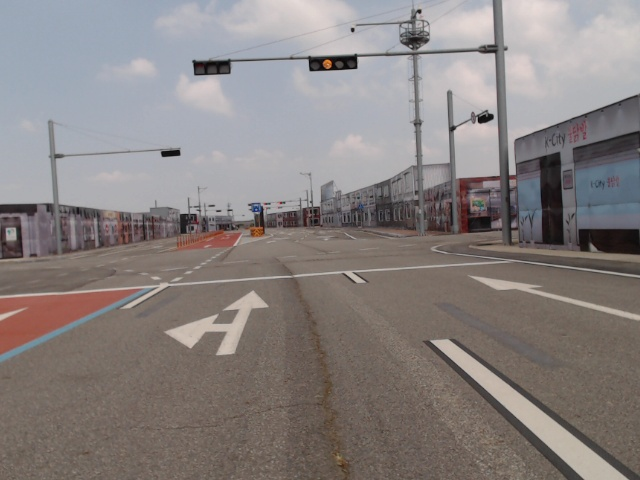orange_4: (309, 55, 358, 72)
